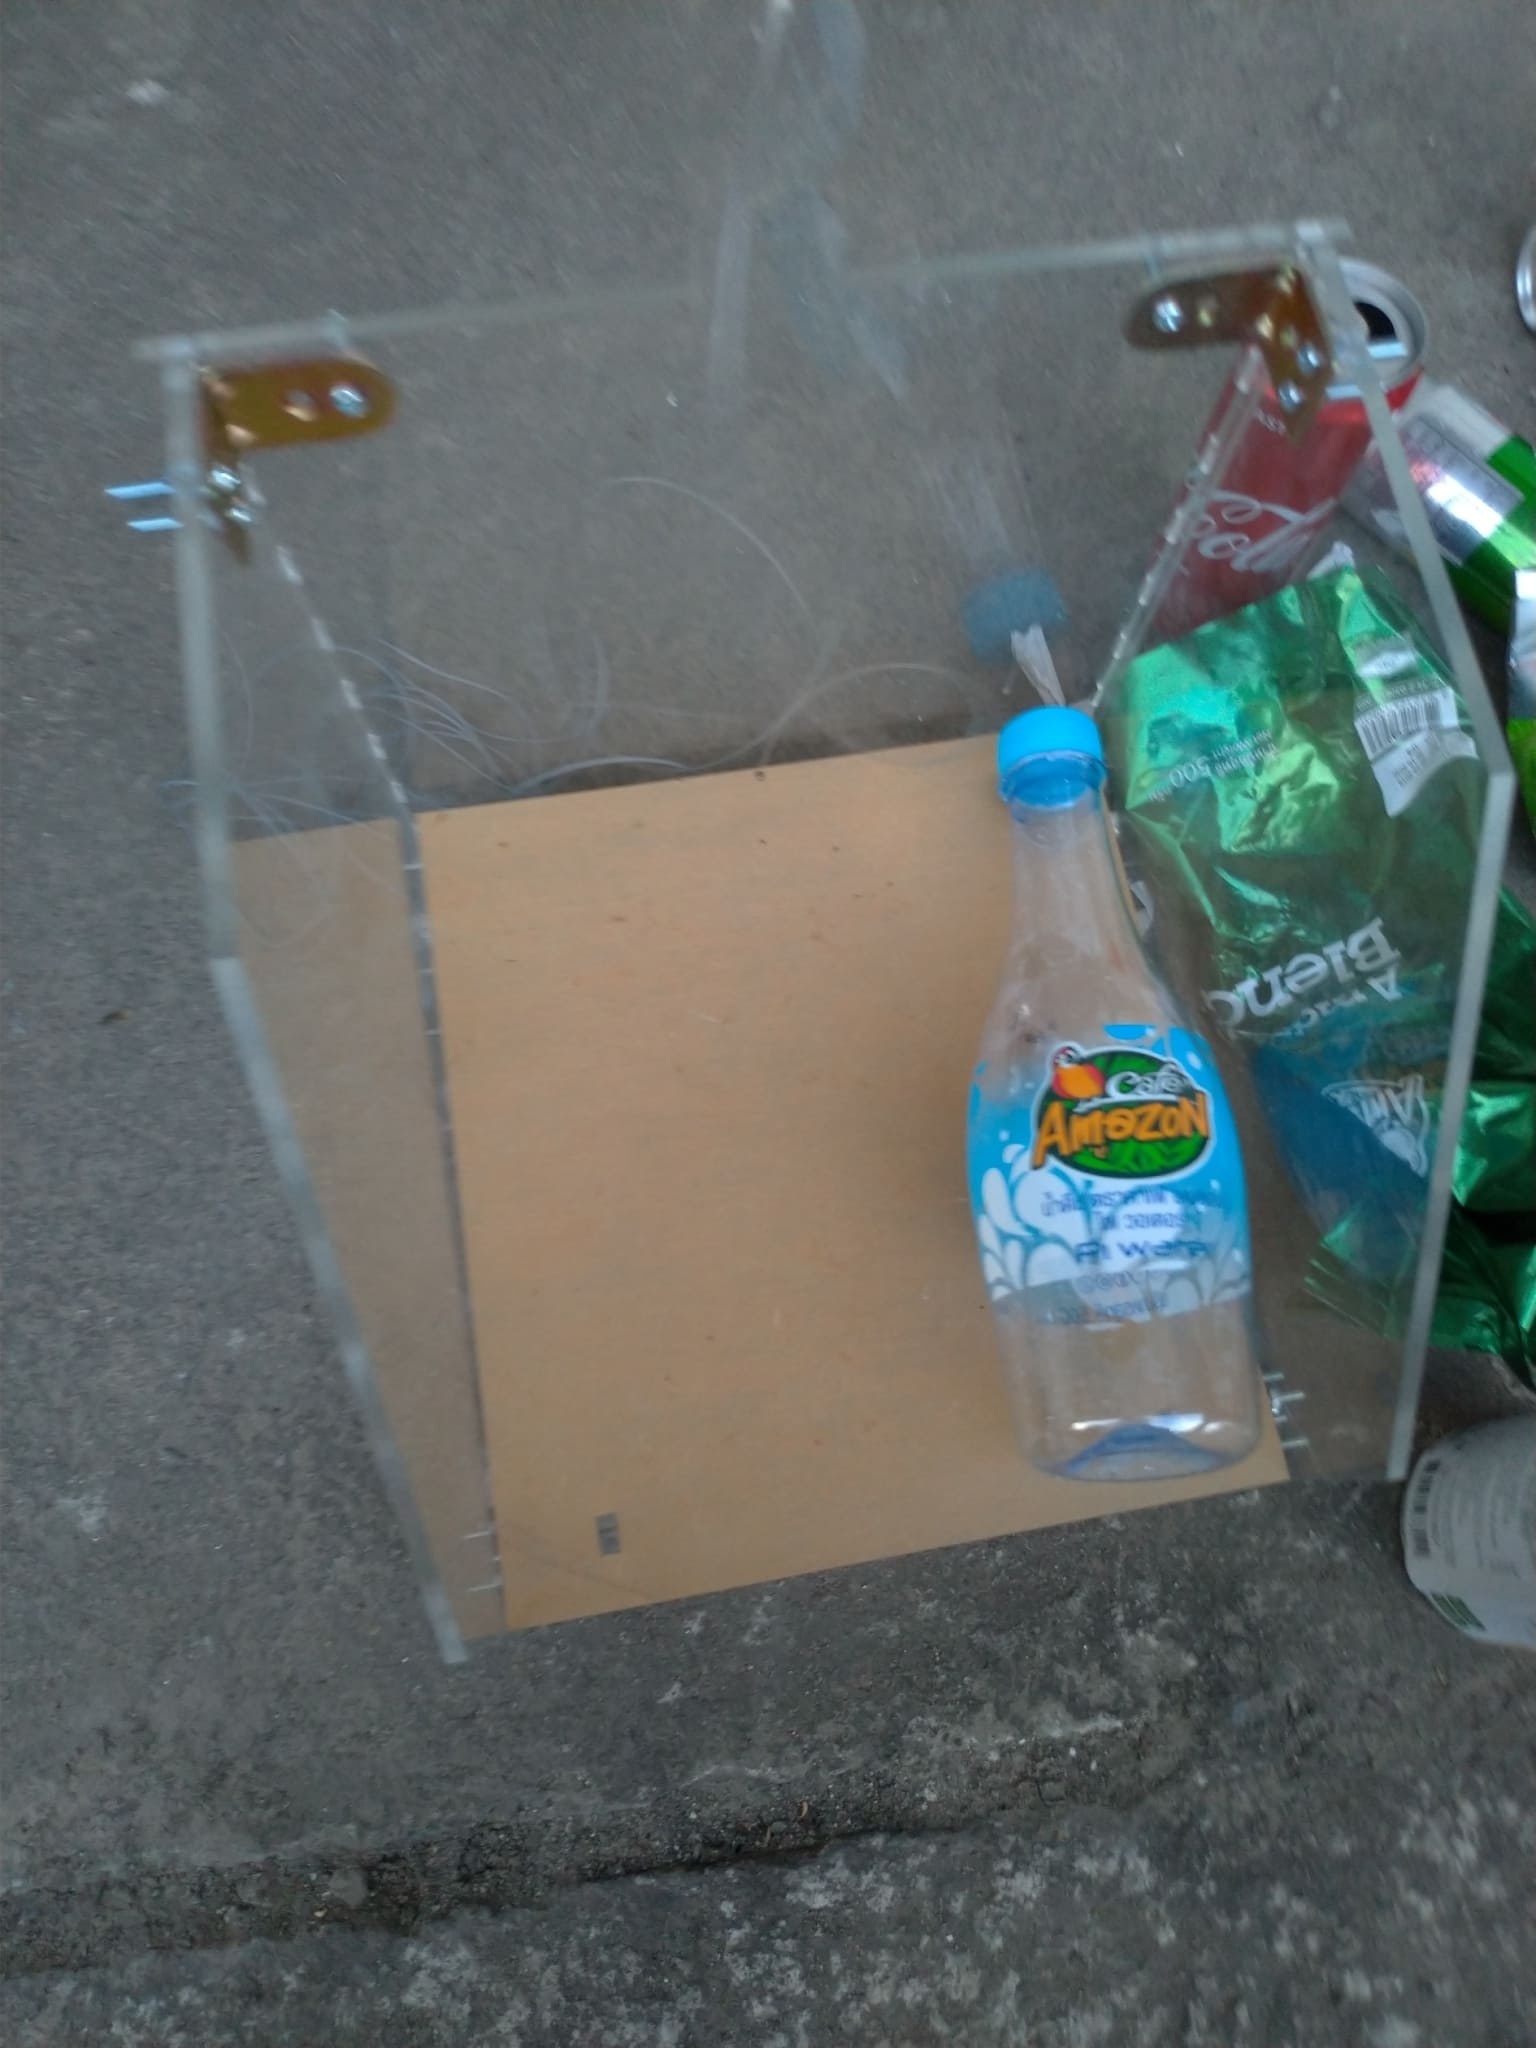AlCan: (1141, 261, 1425, 626), (1360, 384, 1536, 585)
Others: (1096, 574, 1536, 1372)
PlasticBottle: (970, 710, 1263, 1480)
